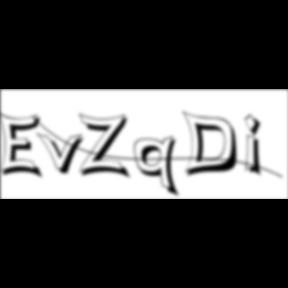D: (182, 110, 244, 180)
E: (0, 110, 48, 182)
Z: (79, 112, 134, 181)
i: (245, 112, 269, 180)
q: (135, 135, 184, 200)
v: (37, 131, 91, 177)
